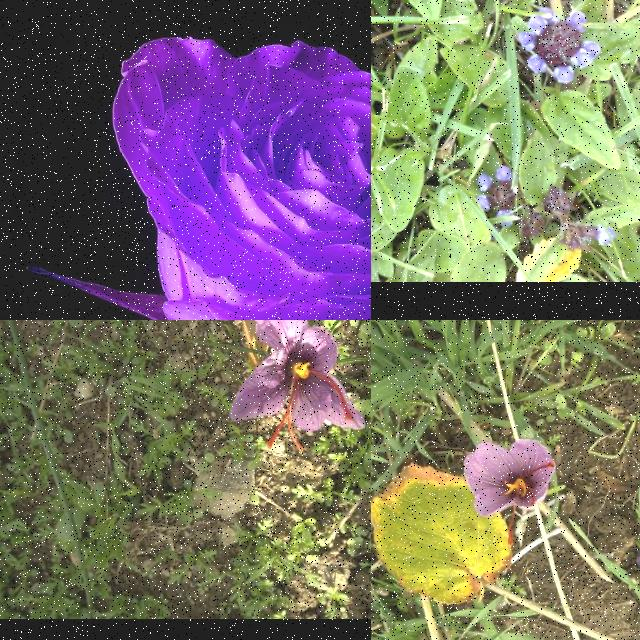flower: (228, 320, 365, 453), (466, 439, 556, 546)
